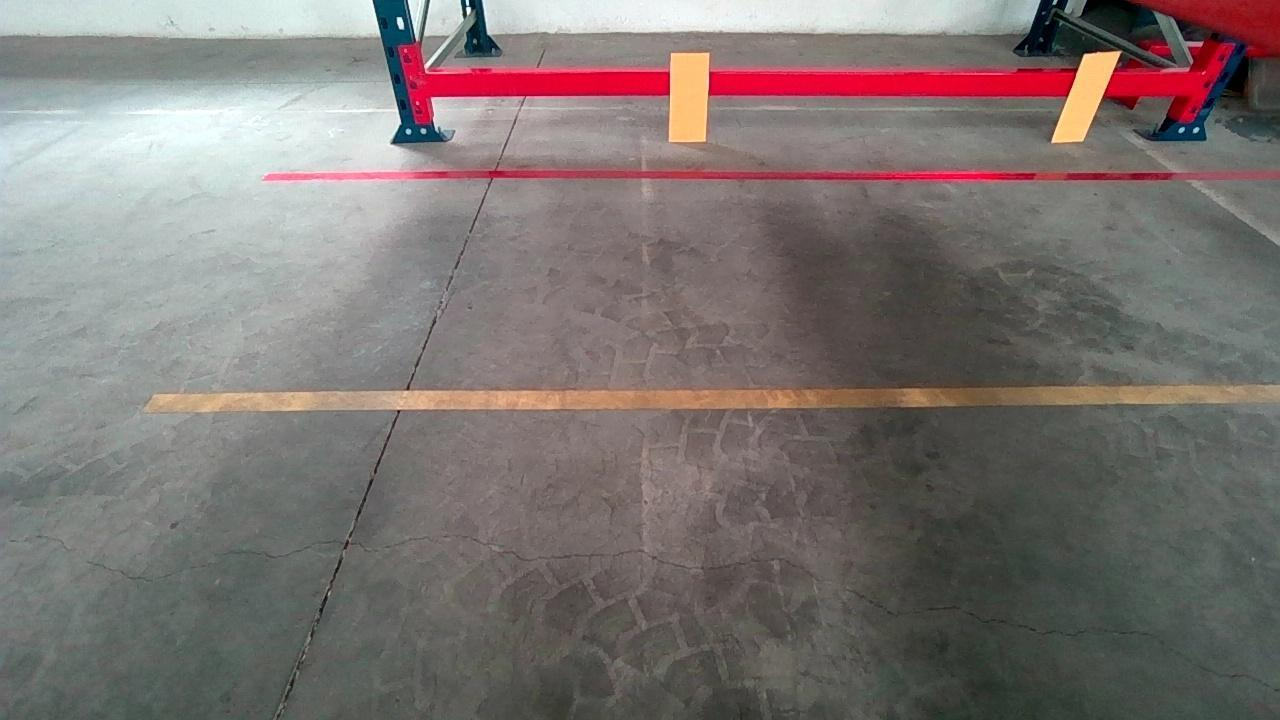h_rack: (422, 68, 1204, 97)
orange_strip: (1052, 50, 1124, 140), (670, 52, 709, 139)
red_line: (260, 167, 1280, 183)
yellow_line: (138, 383, 1280, 412)
